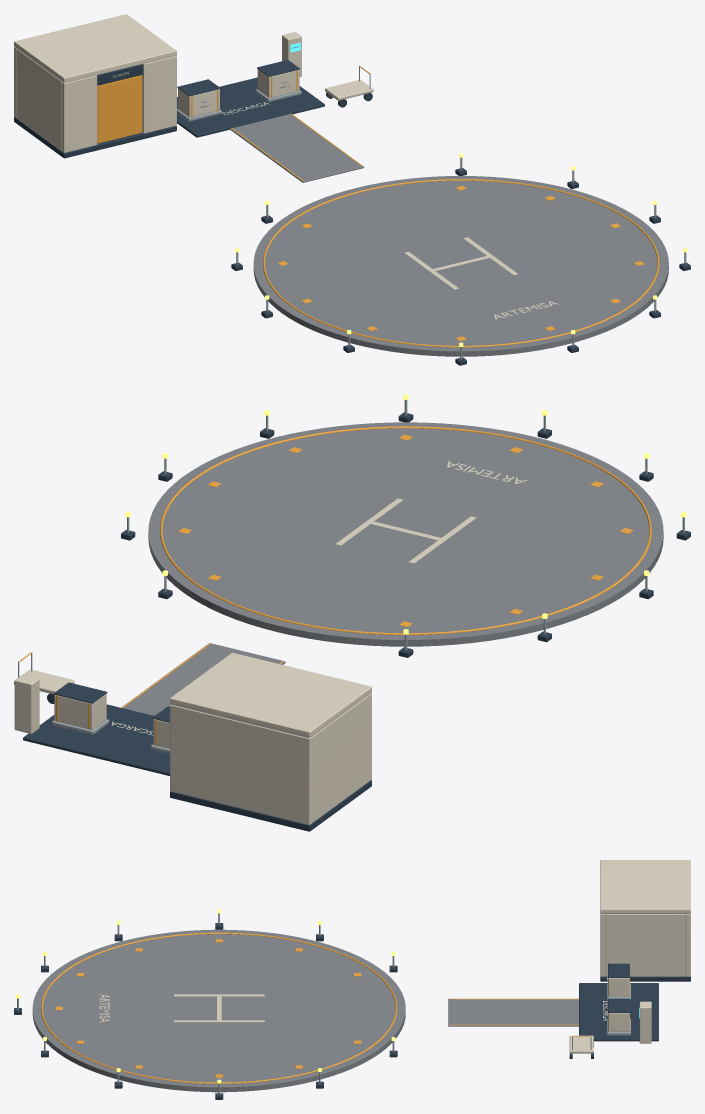
Rendered from logistics.glb.
The picture shows the model from 3 angles, top to bottom: view 1: azimuth 30°, elevation 25°; view 2: azimuth 150°, elevation 25°; view 3: azimuth 270°, elevation 25°; orthographic projection. The views are drawn at different scales.
Visible parts, largest first — view 1: Body, Cover, Door_0; view 2: Body, Cover; view 3: Body, Cover.
Part boxes in pixels (<box>): Body: <box>14,32,690,365</box>; Cover: <box>14,14,176,82</box>; Door_0: <box>97,75,142,143</box>; Body: <box>14,394,690,831</box>; Cover: <box>170,652,371,738</box>; Body: <box>14,909,690,1099</box>; Cover: <box>600,860,690,913</box>.
Size of the model in its own units: 15.4 by 3 by 25.4.
